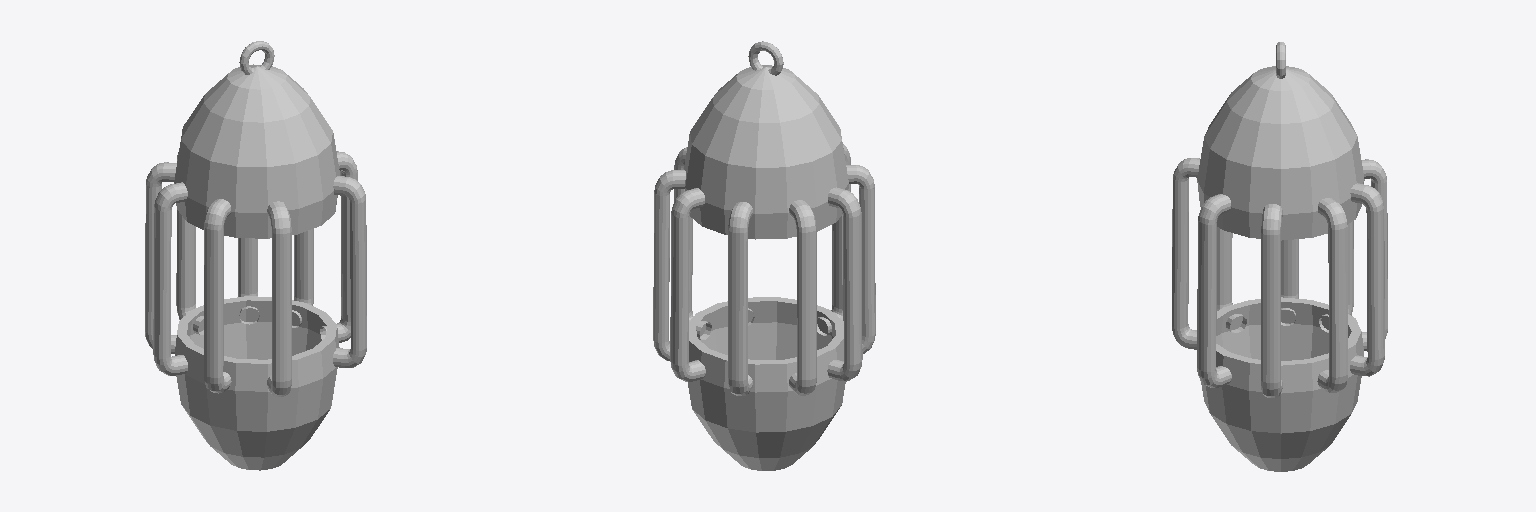
The model's file is lamp.obj.
3 views of the same model, side by side, from view 1: azimuth 30°, elevation 25°; view 2: azimuth 150°, elevation 25°; view 3: azimuth 270°, elevation 25° (orthographic).
Visible parts, largest first — view 1: kap, pot, buizen group6 pCube2, buizen group6 pCube3, buizen pCube1 group6, pCube4 group4 buizen, buizen group5 pCube6, buizen group5 pCube5, group4 buizen pCube5, group4 buizen pCube6, buizen pCube4 group5, pTorus1; view 2: kap, pot, buizen group5 pCube6, buizen pCube1 group6, buizen pCube4 group5, buizen group5 pCube5, group4 buizen pCube6, buizen group6 pCube2, buizen group6 pCube3, group4 buizen pCube5, pTorus1; view 3: kap, pot, pCube4 group4 buizen, group4 buizen pCube6, group4 buizen pCube5, buizen pCube4 group5, buizen group6 pCube3, buizen group6 pCube2, buizen group5 pCube5, buizen pCube1 group6, buizen group5 pCube6.
Part boxes in pixels (bbox=[...]): kap: bbox=[174, 64, 339, 238]; pot: bbox=[175, 296, 339, 470]; buizen group6 pCube2: bbox=[204, 199, 231, 393]; buizen group6 pCube3: bbox=[267, 201, 291, 396]; buizen pCube1 group6: bbox=[153, 182, 187, 375]; pCube4 group4 buizen: bbox=[333, 176, 366, 367]; buizen group5 pCube6: bbox=[145, 162, 176, 353]; buizen group5 pCube5: bbox=[176, 152, 203, 334]; group4 buizen pCube5: bbox=[320, 151, 357, 342]; group4 buizen pCube6: bbox=[292, 229, 313, 327]; buizen pCube4 group5: bbox=[238, 238, 259, 324]; pTorus1: bbox=[239, 41, 274, 74]; kap: bbox=[684, 65, 848, 239]; pot: bbox=[688, 297, 845, 470]; buizen group5 pCube6: bbox=[789, 200, 816, 395]; buizen pCube1 group6: bbox=[827, 187, 862, 381]; buizen pCube4 group5: bbox=[670, 188, 705, 381]; buizen group5 pCube5: bbox=[728, 202, 752, 395]; group4 buizen pCube6: bbox=[653, 170, 685, 360]; buizen group6 pCube2: bbox=[846, 165, 875, 353]; buizen group6 pCube3: bbox=[817, 144, 850, 335]; group4 buizen pCube5: bbox=[674, 147, 711, 339]; pTorus1: bbox=[748, 41, 783, 75]; kap: bbox=[1197, 66, 1364, 240]; pot: bbox=[1201, 297, 1363, 471]; pCube4 group4 buizen: bbox=[1197, 194, 1231, 387]; group4 buizen pCube6: bbox=[1317, 198, 1347, 392]; group4 buizen pCube5: bbox=[1261, 204, 1282, 397]; buizen pCube4 group5: bbox=[1350, 183, 1384, 376]; buizen group6 pCube3: bbox=[1172, 158, 1199, 349]; buizen group6 pCube2: bbox=[1217, 227, 1246, 332]; buizen group5 pCube5: bbox=[1362, 159, 1387, 350]; buizen pCube1 group6: bbox=[1281, 239, 1298, 325]; buizen group5 pCube6: bbox=[1319, 221, 1353, 332].
Bounding box in the file's own units: 2.76 × 5.82 × 2.68.